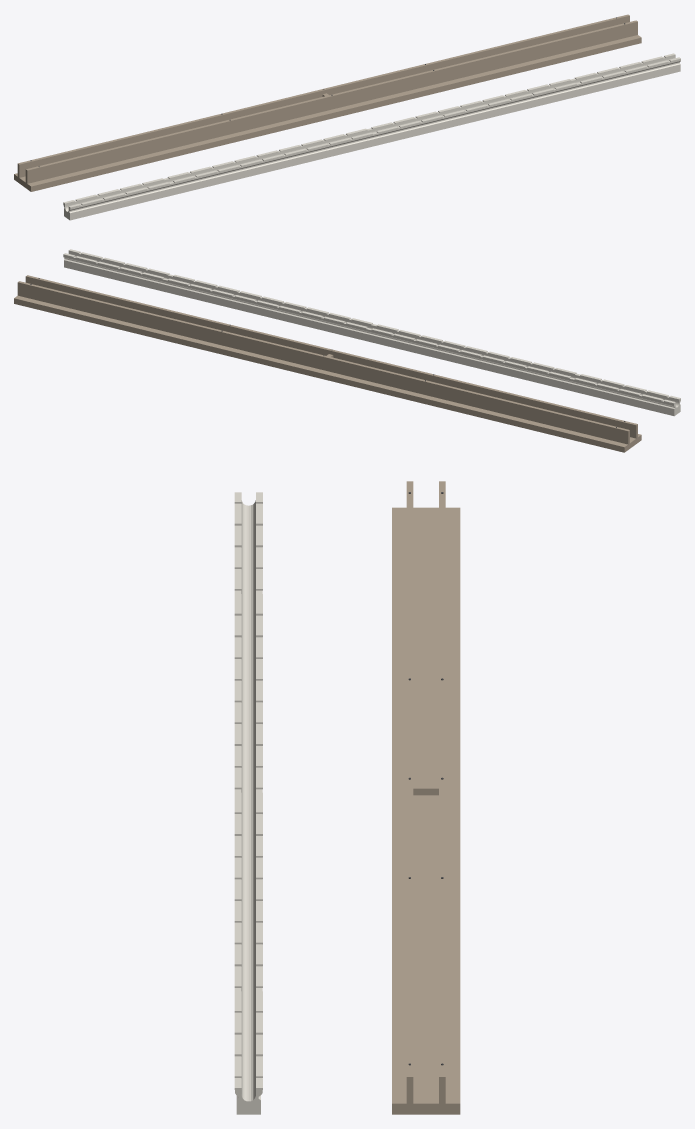
Rendered from paxton-gutter.glb.
The picture shows the model from 3 angles, top to bottom: view 1: azimuth 30°, elevation 25°; view 2: azimuth 150°, elevation 25°; view 3: azimuth 270°, elevation 25°; orthographic projection. The views are drawn at different scales.
Visible parts, largest first — view 1: PaxtonGutter_Body, MainGutter_SideBoard.001, MainGutter_BottomBoard, MainGutter_SideBoard, PaxtonGutter_NotchStrips; view 2: PaxtonGutter_Body, MainGutter_SideBoard, MainGutter_BottomBoard, MainGutter_SideBoard.001, PaxtonGutter_NotchStrips; view 3: MainGutter_BottomBoard, PaxtonGutter_Body, PaxtonGutter_NotchStrips, MainGutter_SideBoard.001, MainGutter_SideBoard.
Part boxes in pixels (x1,y1,x2,y2): PaxtonGutter_Body: (63,55,680,220); MainGutter_SideBoard.001: (25,20,637,183); MainGutter_BottomBoard: (14,35,641,191); MainGutter_SideBoard: (17,14,629,177); PaxtonGutter_NotchStrips: (63,53,680,208); PaxtonGutter_Body: (63,251,680,416); MainGutter_SideBoard: (17,281,629,444); MainGutter_BottomBoard: (14,295,641,452); MainGutter_SideBoard.001: (25,275,637,438); PaxtonGutter_NotchStrips: (63,249,680,404); MainGutter_BottomBoard: (392,507,460,1114); PaxtonGutter_Body: (234,500,262,1114); PaxtonGutter_NotchStrips: (234,492,262,1089); MainGutter_SideBoard.001: (406,481,413,1103); MainGutter_SideBoard: (439,481,445,1103).
Size of the model in its own units: 7.32 by 0.2426 by 1.17.
